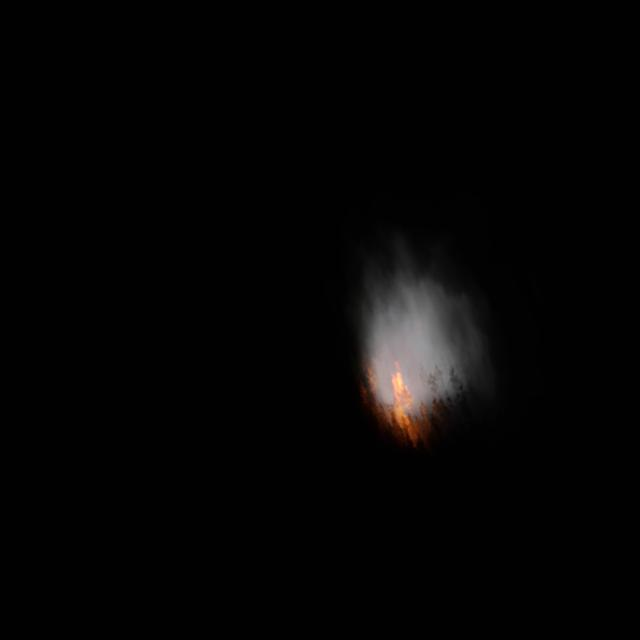fire: (385, 358, 419, 412)
smoke: (320, 209, 520, 455)
